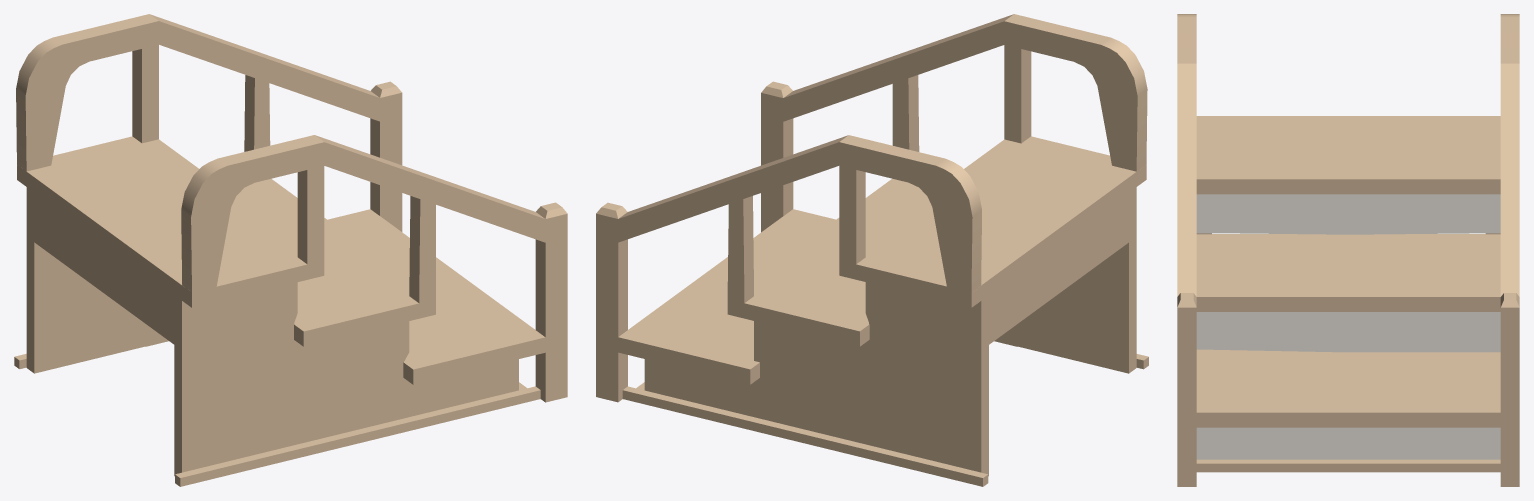
The model's file is stair.glb.
The picture shows the model from 3 angles, left to right: view 1: azimuth 30°, elevation 25°; view 2: azimuth 150°, elevation 25°; view 3: azimuth 270°, elevation 25°; orthographic projection. The views are drawn at different scales.
Parts seen in each view (by area): view 1: pCube3, pCube2, pCube1; view 2: pCube3, pCube2, pCube1; view 3: pCube3, pCube1, pCube2.
Part boxes in pixels (x1,y1,x2,y2): pCube3: (16,14,567,476); pCube2: (146,75,435,445); pCube1: (14,209,545,486); pCube3: (596,14,1147,476); pCube2: (727,75,1017,444); pCube1: (618,209,1148,486); pCube3: (1177,14,1519,486); pCube1: (1196,349,1500,472); pCube2: (1196,234,1500,352).
Bounding box in the file's own units: 1.43 × 1.12 × 1.13.
